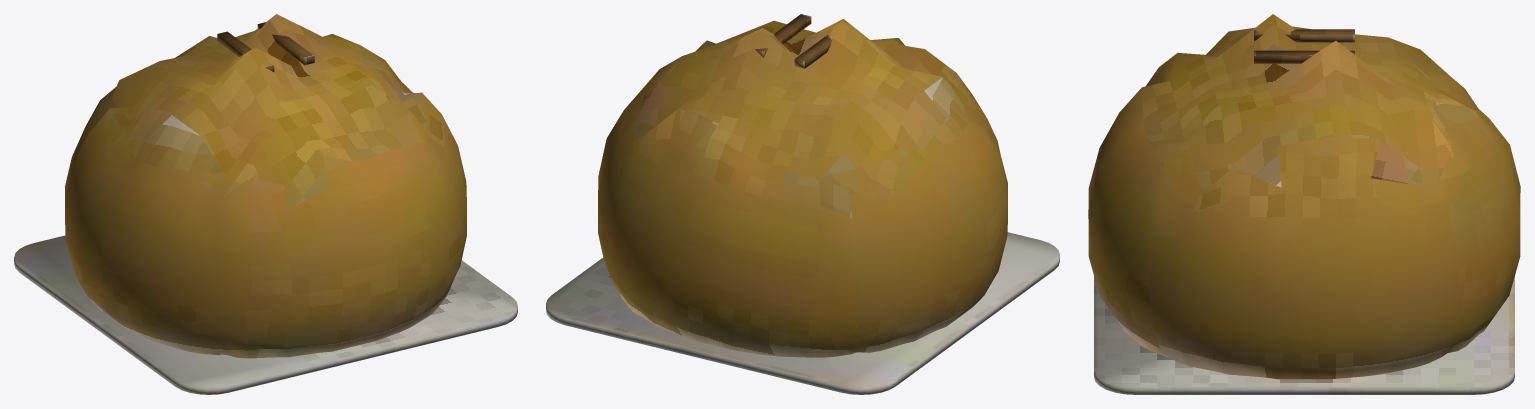
Rendered from curryman.glb.
3 renders of one model, left to right at view 1: azimuth 30°, elevation 25°; view 2: azimuth 150°, elevation 25°; view 3: azimuth 270°, elevation 25°, orthographic. The views are drawn at different scales.
Parts seen in each view (by area): view 1: prop_curryman_felt; view 2: prop_curryman_felt; view 3: prop_curryman_felt.
Boxes of the visible parts, x1,y1,x2,y2 form: prop_curryman_felt: (14,14,517,394); prop_curryman_felt: (546,14,1059,394); prop_curryman_felt: (1088,14,1520,394).
Size of the model in its own units: 0.1537 by 0.1095 by 0.1539.
Materials: 1 (1 with a texture image).
